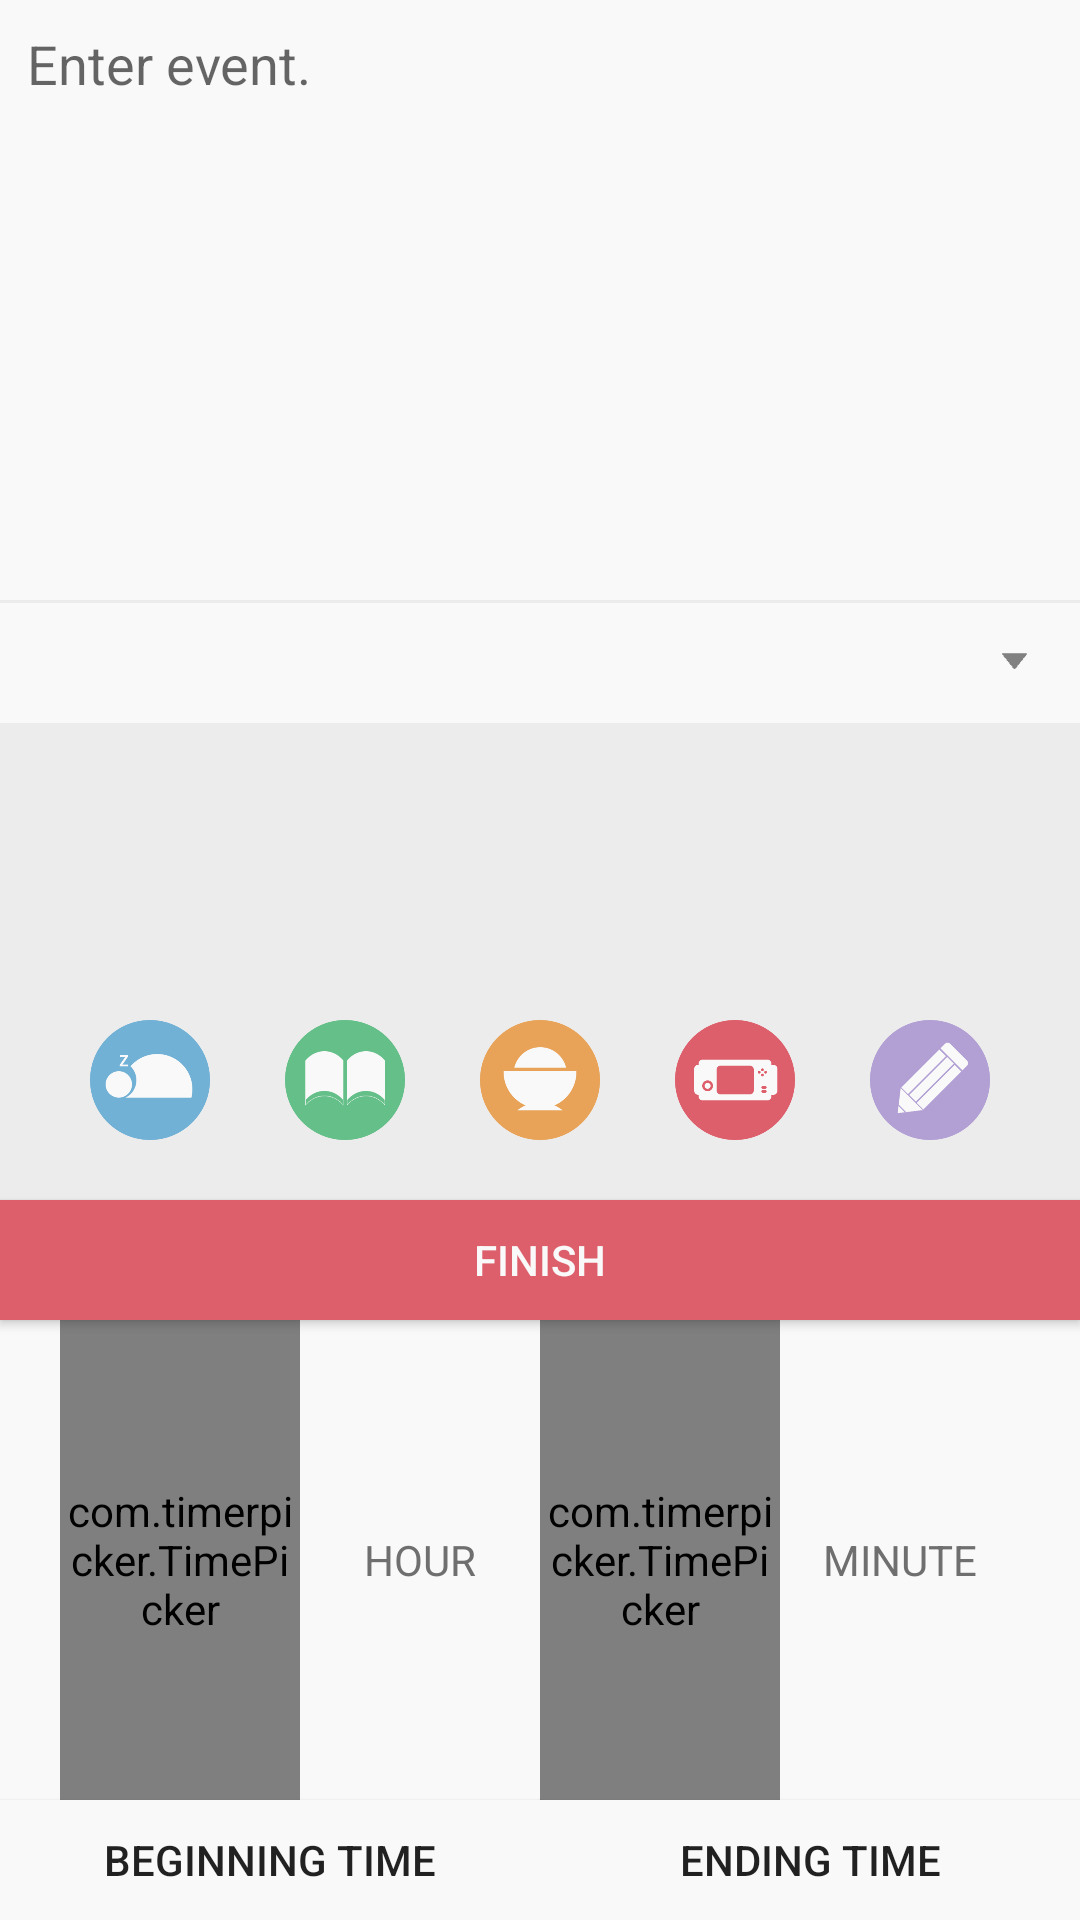

Icon click points for this 1080x1920 phone screenshot, format point (x, y):
eat: point (540, 1080)
notes: point (930, 1080)
sleep: point (150, 1080)
study: point (345, 1080)
